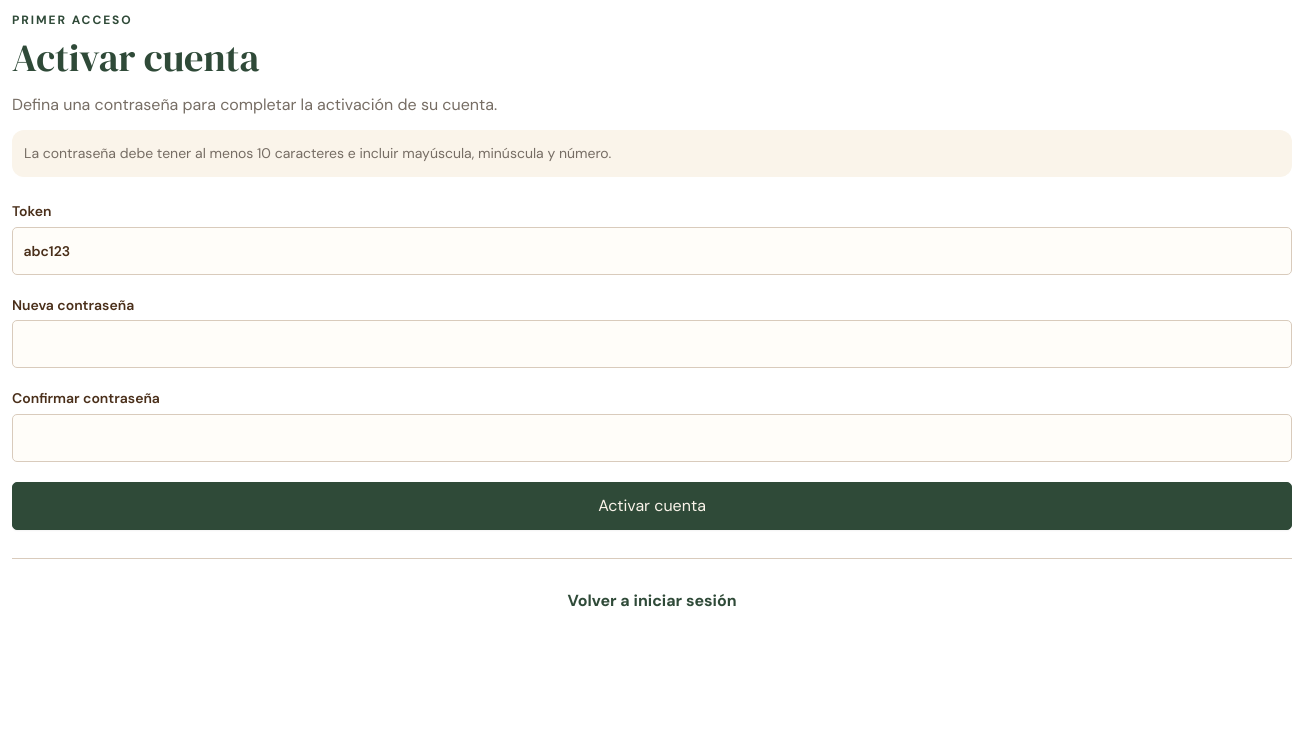
Test case: TokenPasswordPage activation › maps authoritative backend outcome: Invalid activation token
This screenshot has width=1304, height=732.
Step 1. Type "Secure12345" into the password field labelled "Nueva contraseña" → (652, 344), box [12,320,1292,368]
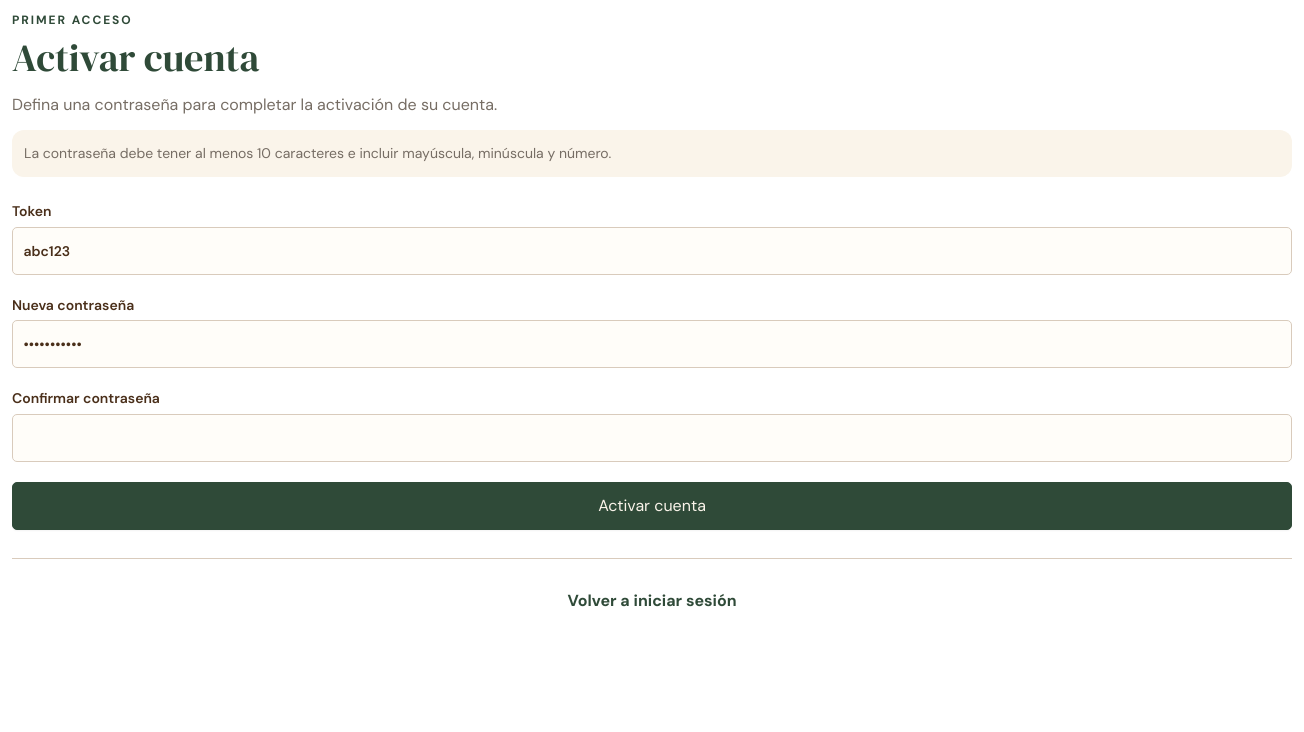
Step 2. Type "Secure12345" into the password field labelled "Confirmar contraseña" → (652, 438), box [12,414,1292,462]
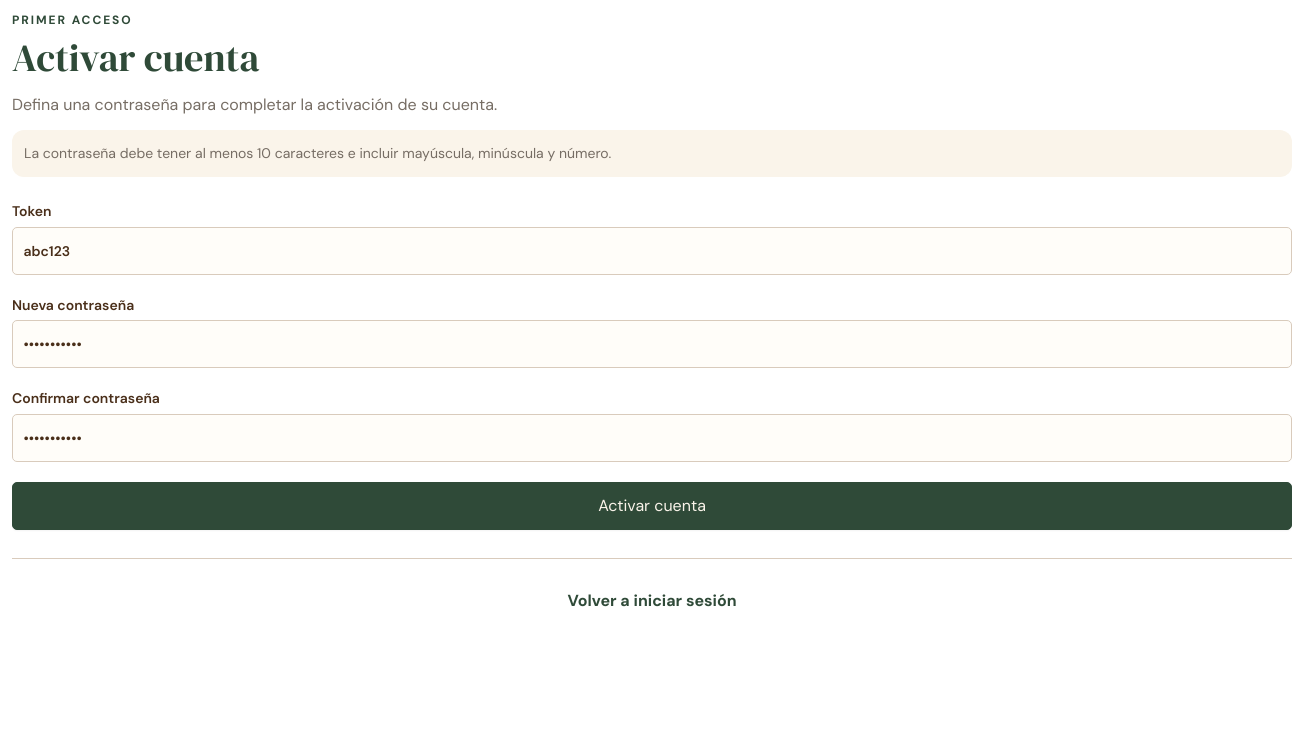
Step 3. Click the button "Activar cuenta" → (652, 506), box [12,482,1292,530]
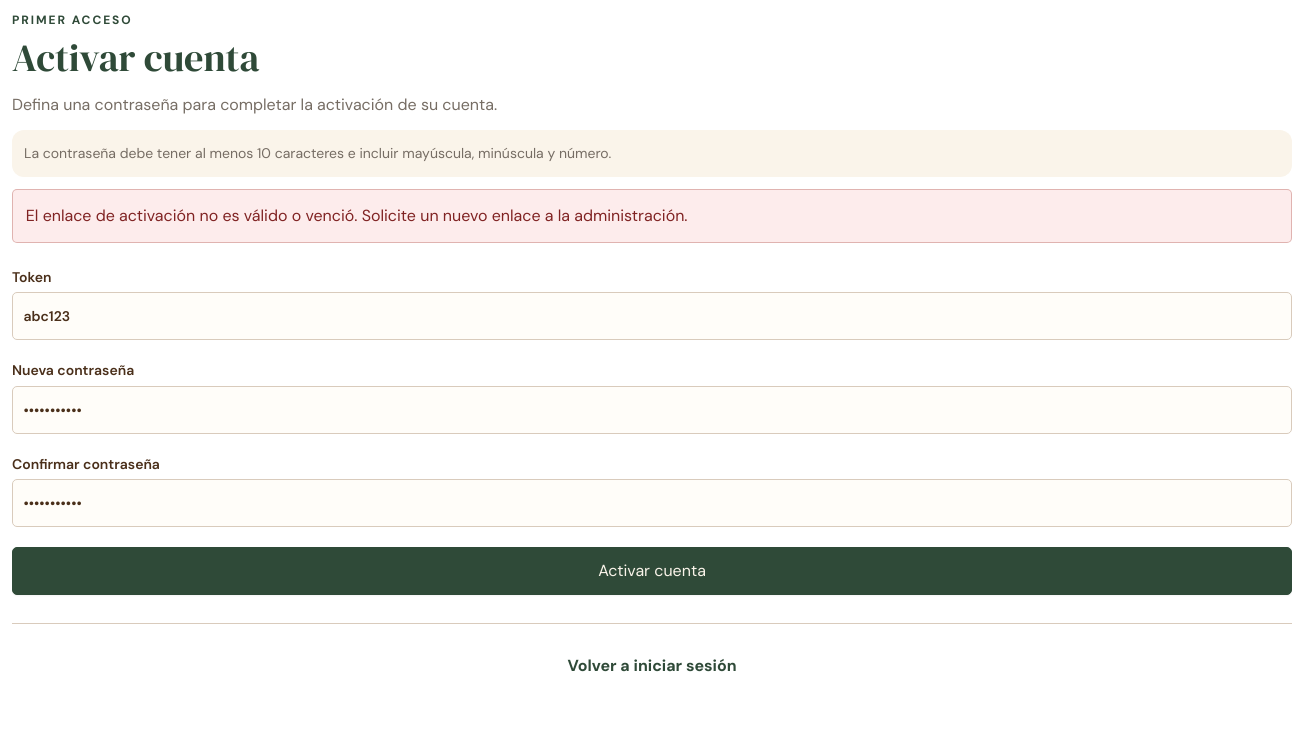
Check: the message shows "no es válido o venció", box [26,205,688,226]
